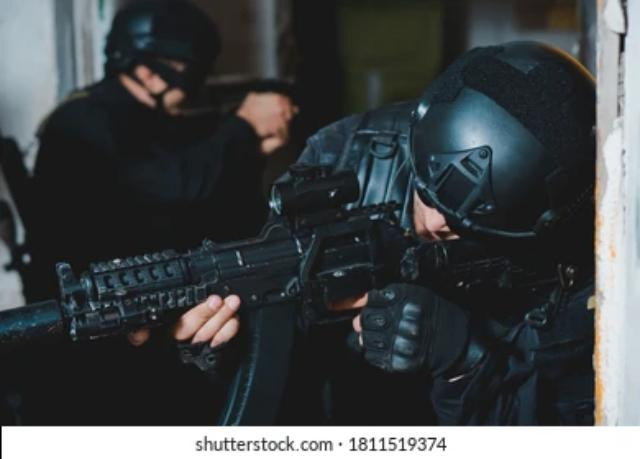other: (276, 51, 594, 424), (21, 3, 289, 308)
